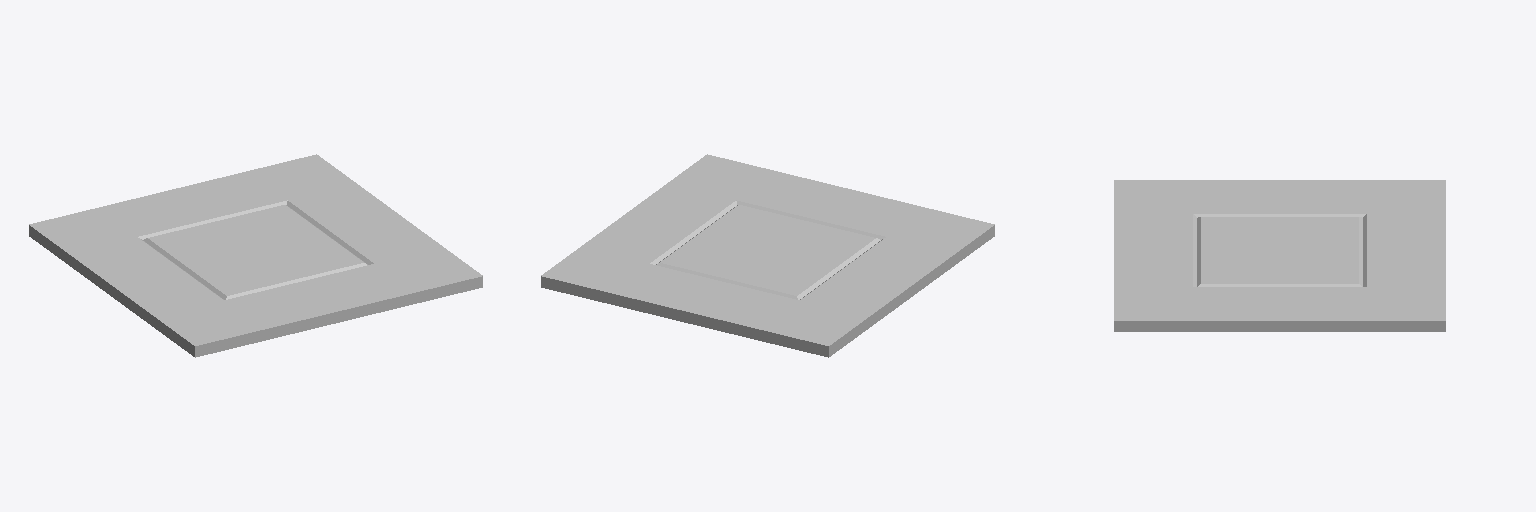
Rendered from Floor_Metal_Square.obj.
3 views of the same model, side by side, from view 1: azimuth 30°, elevation 25°; view 2: azimuth 150°, elevation 25°; view 3: azimuth 270°, elevation 25° (orthographic).
Parts seen in each view (by area): view 1: Floor_Metal_Square; view 2: Floor_Metal_Square; view 3: Floor_Metal_Square.
Boxes of the visible parts, x1=… form: Floor_Metal_Square: x1=29, y1=154, x2=482, y2=357; Floor_Metal_Square: x1=541, y1=154, x2=994, y2=357; Floor_Metal_Square: x1=1114, y1=180, x2=1445, y2=331.
Size of the model in its own units: 4 by 0.15 by 4.